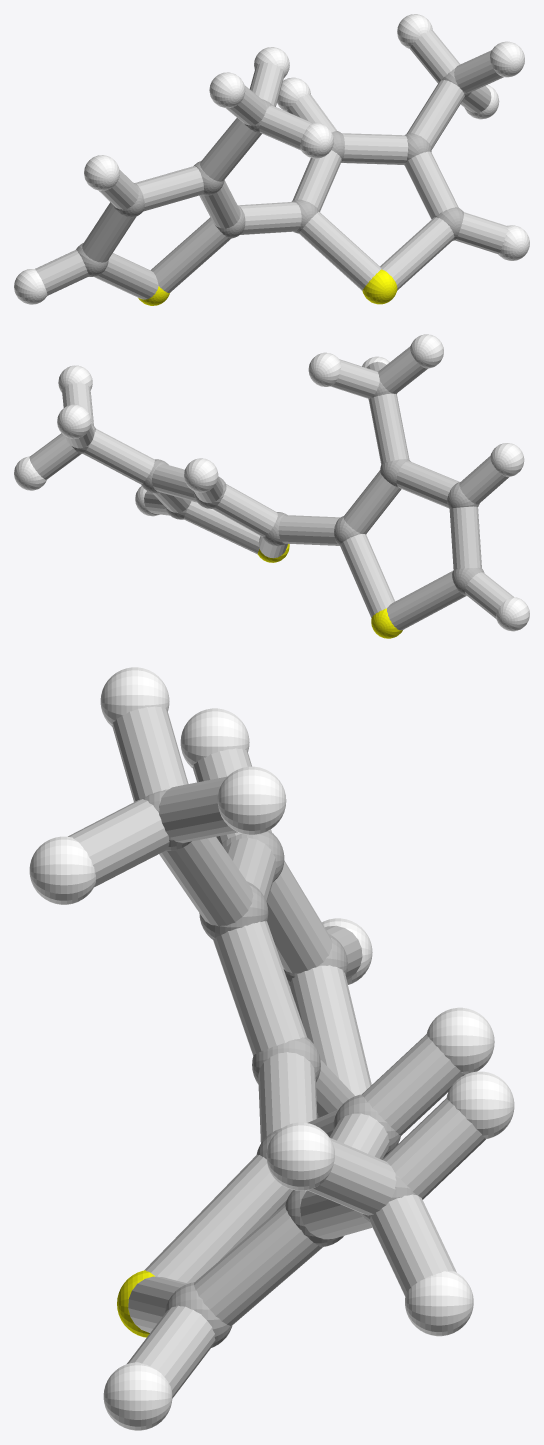
Rendered from Methylthiophene_Phi_15_Theta_110_Methylthiophene.glb.
3 renders of one model, top to bottom at view 1: azimuth 30°, elevation 25°; view 2: azimuth 150°, elevation 25°; view 3: azimuth 270°, elevation 25°, orthographic. The views are drawn at different scales.
Parts seen in each view (by area): view 1: grp7965, grp3621, grp1, grp7241; view 2: grp7965, grp3621, grp1, grp7241; view 3: grp7965, grp3621, grp1, grp7241.
Part boxes in pixels (x1,y1,x2,y2): grp7965: (35, 30, 507, 299); grp3621: (14, 14, 529, 304); grp1: (76, 69, 471, 276); grp7241: (138, 269, 397, 305); grp7965: (29, 346, 513, 630); grp3621: (14, 334, 529, 631); grp1: (72, 370, 484, 595); grp7241: (257, 544, 402, 638); grp7965: (68, 706, 485, 1398); grp3621: (29, 667, 514, 1430); grp1: (142, 789, 415, 1347); grp7241: (117, 1270, 154, 1337).
Size of the model in its own units: 9.76 by 4.97 by 4.22.
